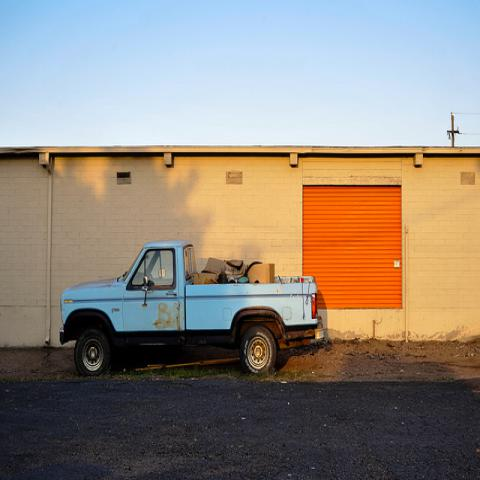truck: (60, 242, 321, 379)
